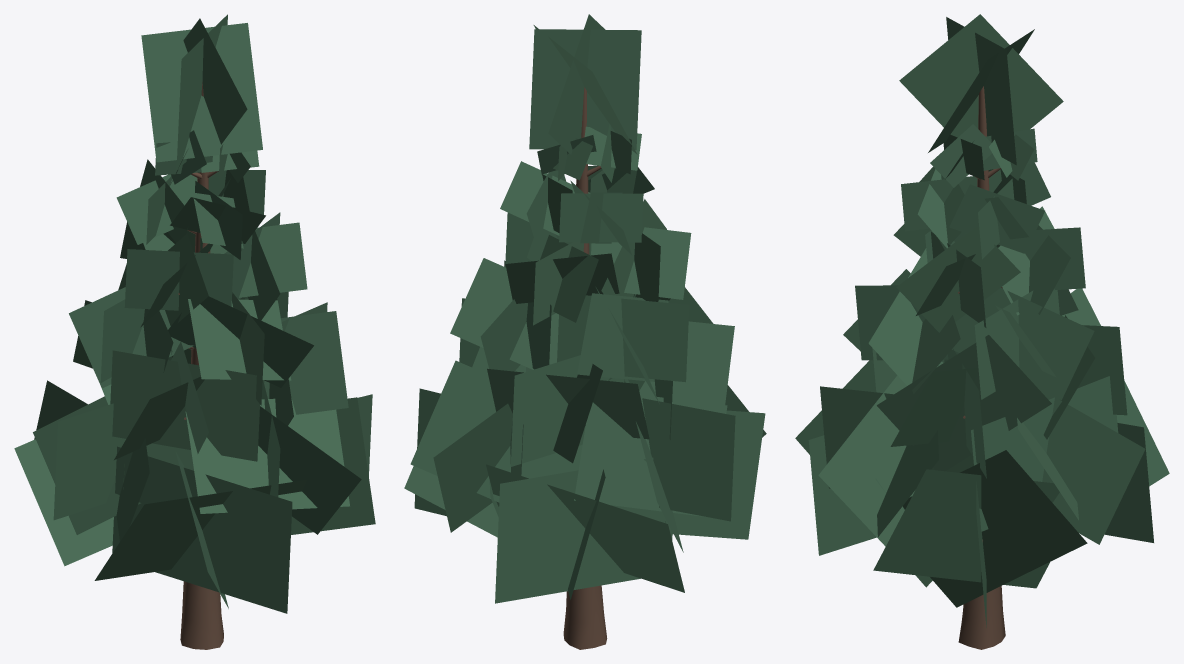
Rendered from spruce.glb.
3 renders of one model, left to right at view 1: azimuth 30°, elevation 25°; view 2: azimuth 150°, elevation 25°; view 3: azimuth 270°, elevation 25°, orthographic.
Parts seen in each view (by area): view 1: Foliage, spruce; view 2: Foliage, spruce; view 3: Foliage, spruce.
Boxes of the visible parts, x1=… form: Foliage: x1=14, y1=14, x2=375, y2=613; spruce: x1=178, y1=82, x2=223, y2=649; Foliage: x1=404, y1=14, x2=766, y2=603; spruce: x1=563, y1=87, x2=607, y2=649; Foliage: x1=795, y1=14, x2=1169, y2=627; spruce: x1=958, y1=86, x2=1005, y2=649.
Bounding box in the file's own units: 5.97 × 11.31 × 6.16.
